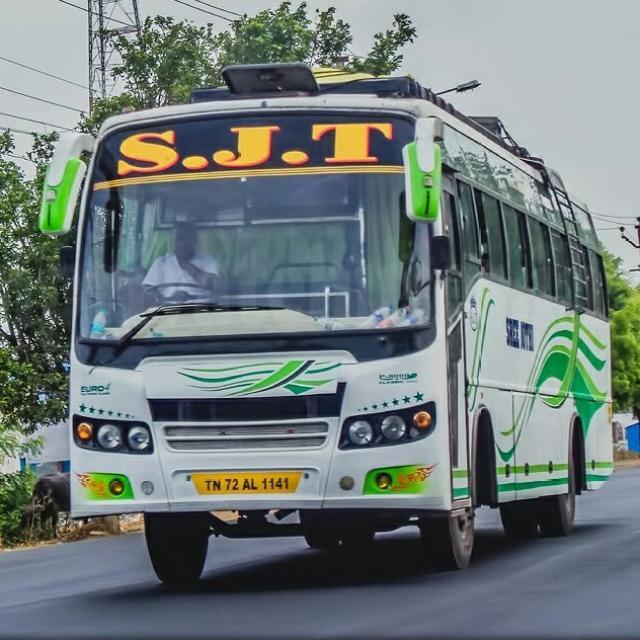Bus: (37, 63, 620, 582)
